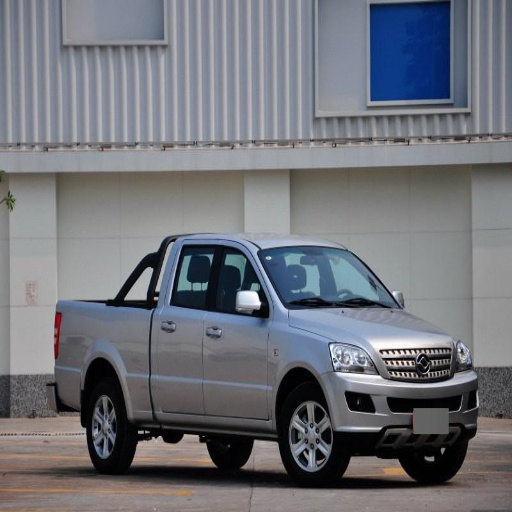back_left_light: (153, 242, 218, 412)
back_right_light: (331, 345, 478, 447)
front_bumper: (259, 247, 401, 307)
front_left_light: (204, 244, 270, 418)
front_right_door: (330, 343, 376, 375)
front_right_light: (297, 308, 456, 358)
tailgate: (48, 304, 148, 415)
trunk: (281, 385, 346, 483), (85, 382, 134, 472), (405, 441, 465, 480), (209, 445, 246, 466)
